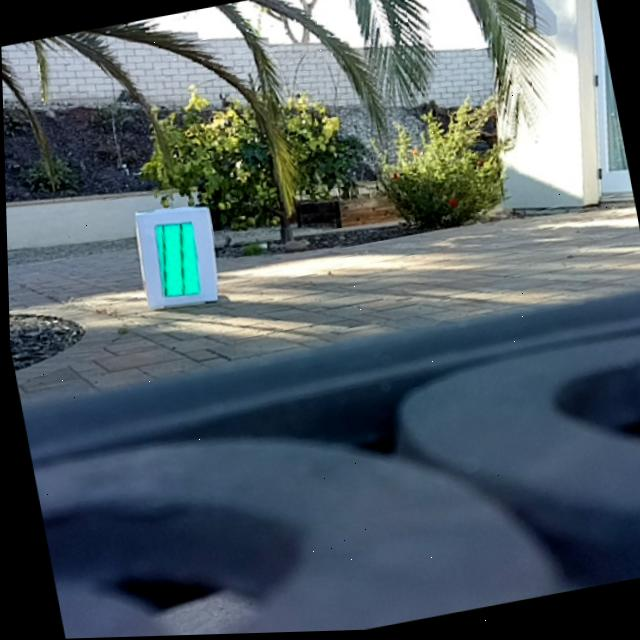led: (150, 218, 206, 303)
